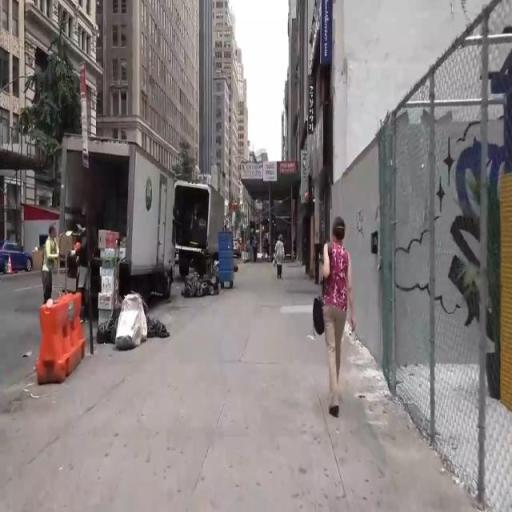person: (314, 219, 354, 429), (42, 217, 61, 307), (76, 219, 92, 323), (274, 228, 294, 292), (251, 236, 259, 264)
